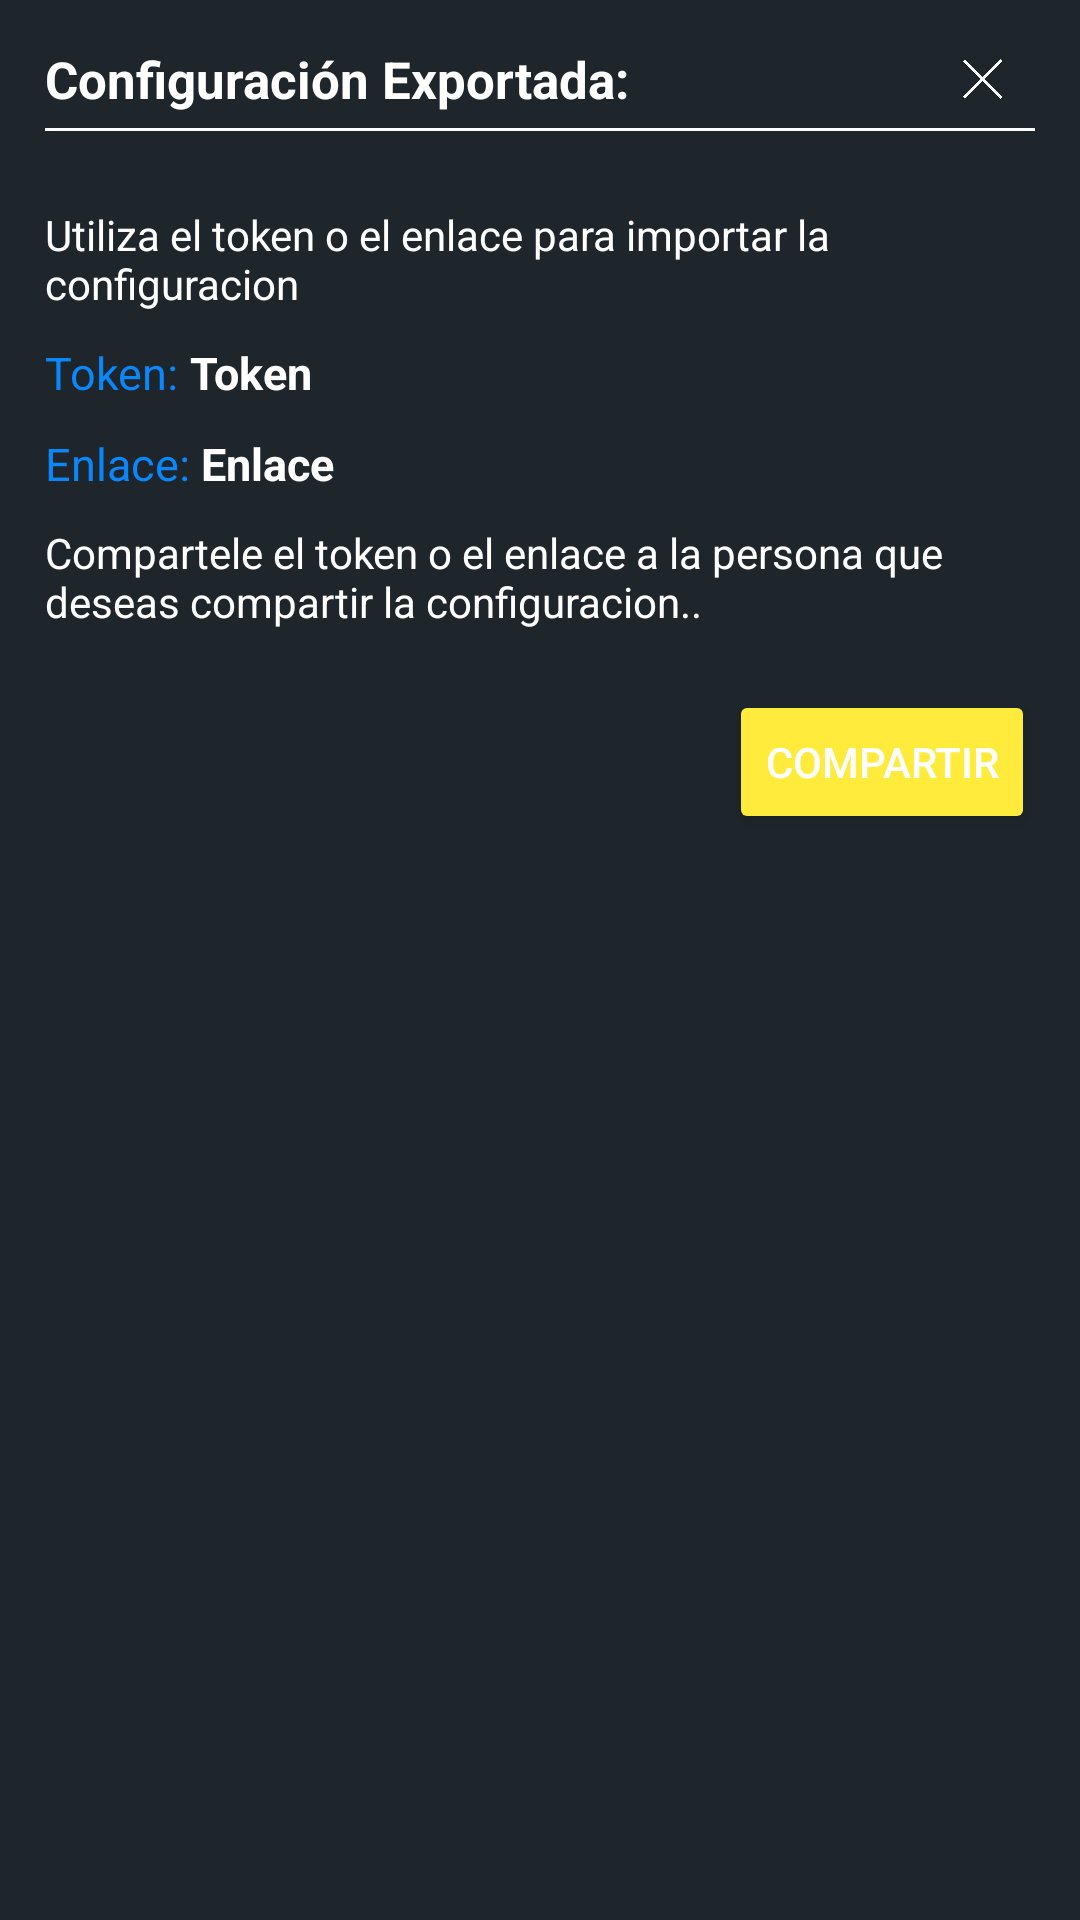

Locate icon controls on the screen. Image size 1080x1920, boxes as (x1, y1, x2, y2).
salir: (963, 59, 1002, 99)
